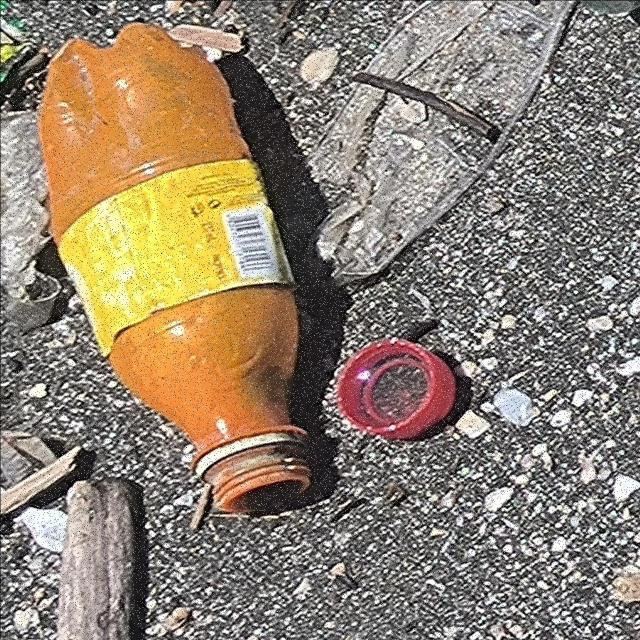plastic_waste: (35, 21, 317, 516), (335, 340, 459, 442)
